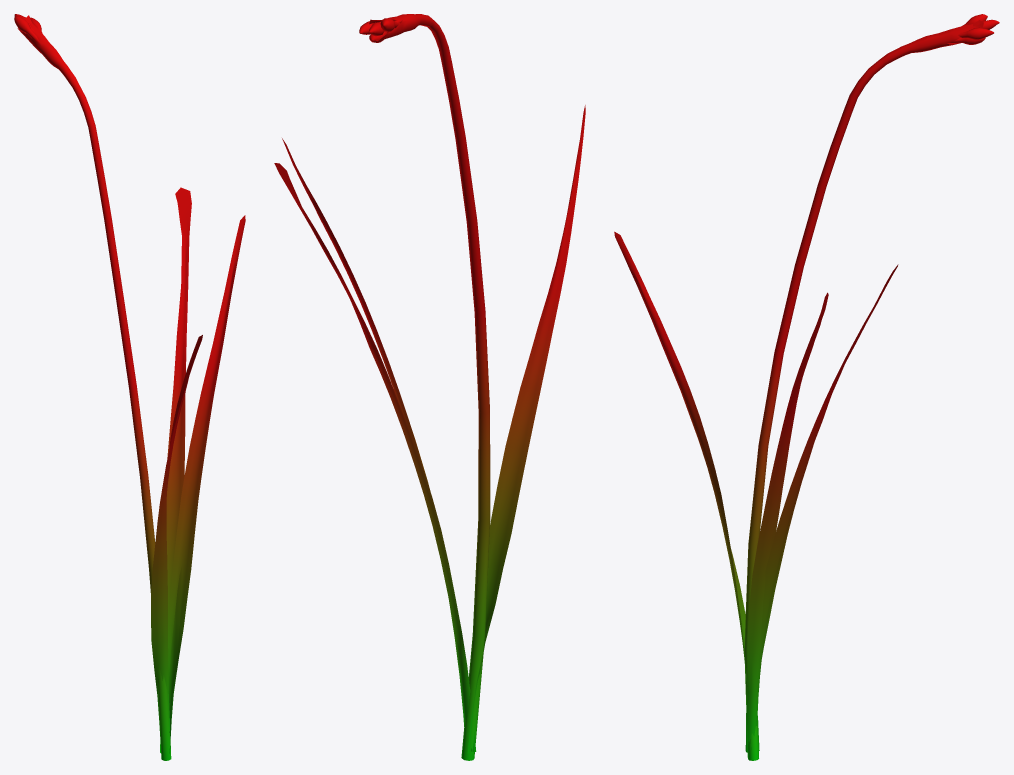
The model's file is Rush Daffodil_LOD0_Var25_wftgfjaia.fbx.
3 views of the same model, side by side, from view 1: azimuth 30°, elevation 25°; view 2: azimuth 150°, elevation 25°; view 3: azimuth 270°, elevation 25° (orthographic). The views are drawn at different scales.
Visible parts, largest first — view 1: _okcx_var25_LOD0; view 2: _okcx_var25_LOD0; view 3: _okcx_var25_LOD0.
Part boxes in pixels (bbox=[...]): _okcx_var25_LOD0: bbox=[14, 14, 245, 760]; _okcx_var25_LOD0: bbox=[274, 14, 585, 760]; _okcx_var25_LOD0: bbox=[614, 14, 999, 760].
Size of the model in its own units: 15.82 by 64.31 by 31.06.
